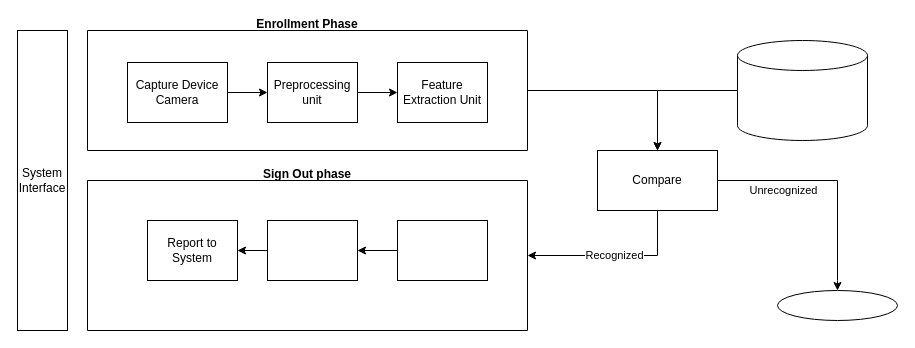
Image size: 915x348. Some labels were removed from this diagram. Here are the shapes that lost their labels. From the top down, the centre of each, then its label:
the point at 802,90: School Database
the point at 312,250: Generate report
the point at 442,250: Record as present
the point at 837,305: Ignore
